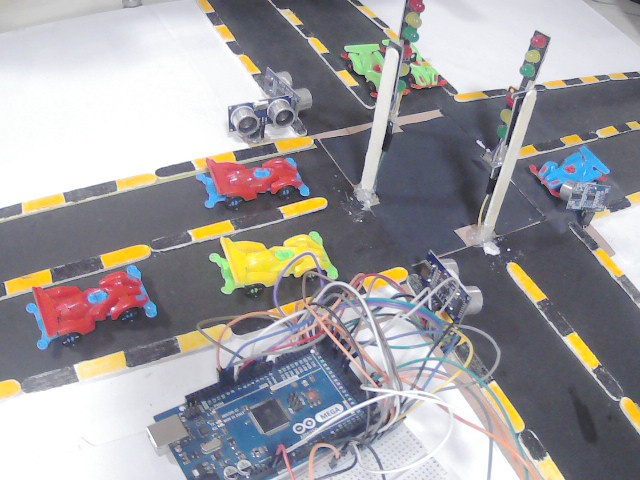car: (213, 242, 342, 299), (30, 292, 165, 344), (202, 163, 307, 205), (336, 43, 411, 97), (384, 39, 449, 89), (537, 167, 625, 193)
traffic_light: (496, 87, 523, 138), (392, 53, 414, 108), (405, 2, 422, 66), (524, 41, 538, 92)
uno_breadboard: (146, 333, 397, 480), (417, 254, 480, 327), (232, 104, 290, 134), (263, 70, 302, 111), (561, 191, 614, 217)
